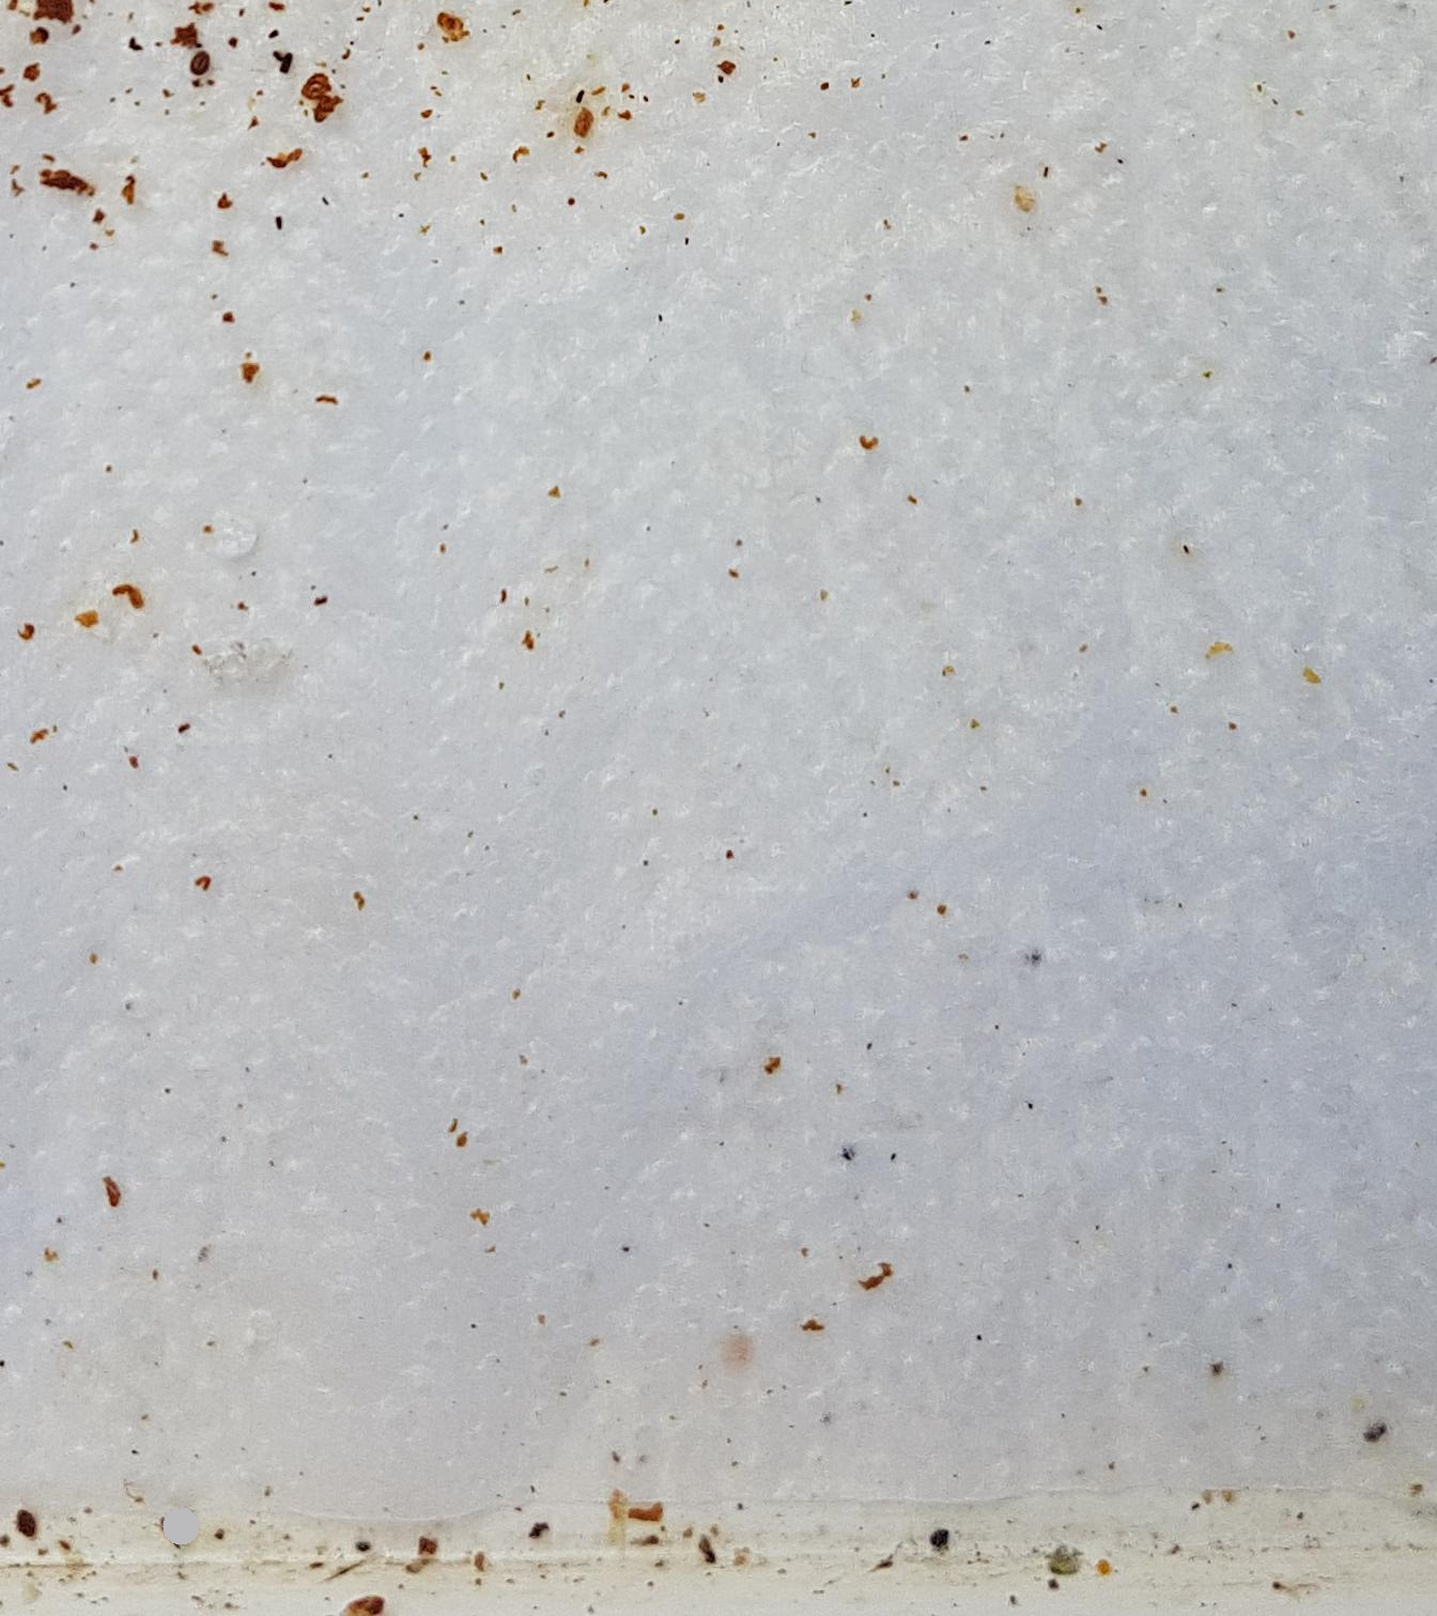Varroa: (8, 1502, 43, 1538), (184, 43, 215, 78)
